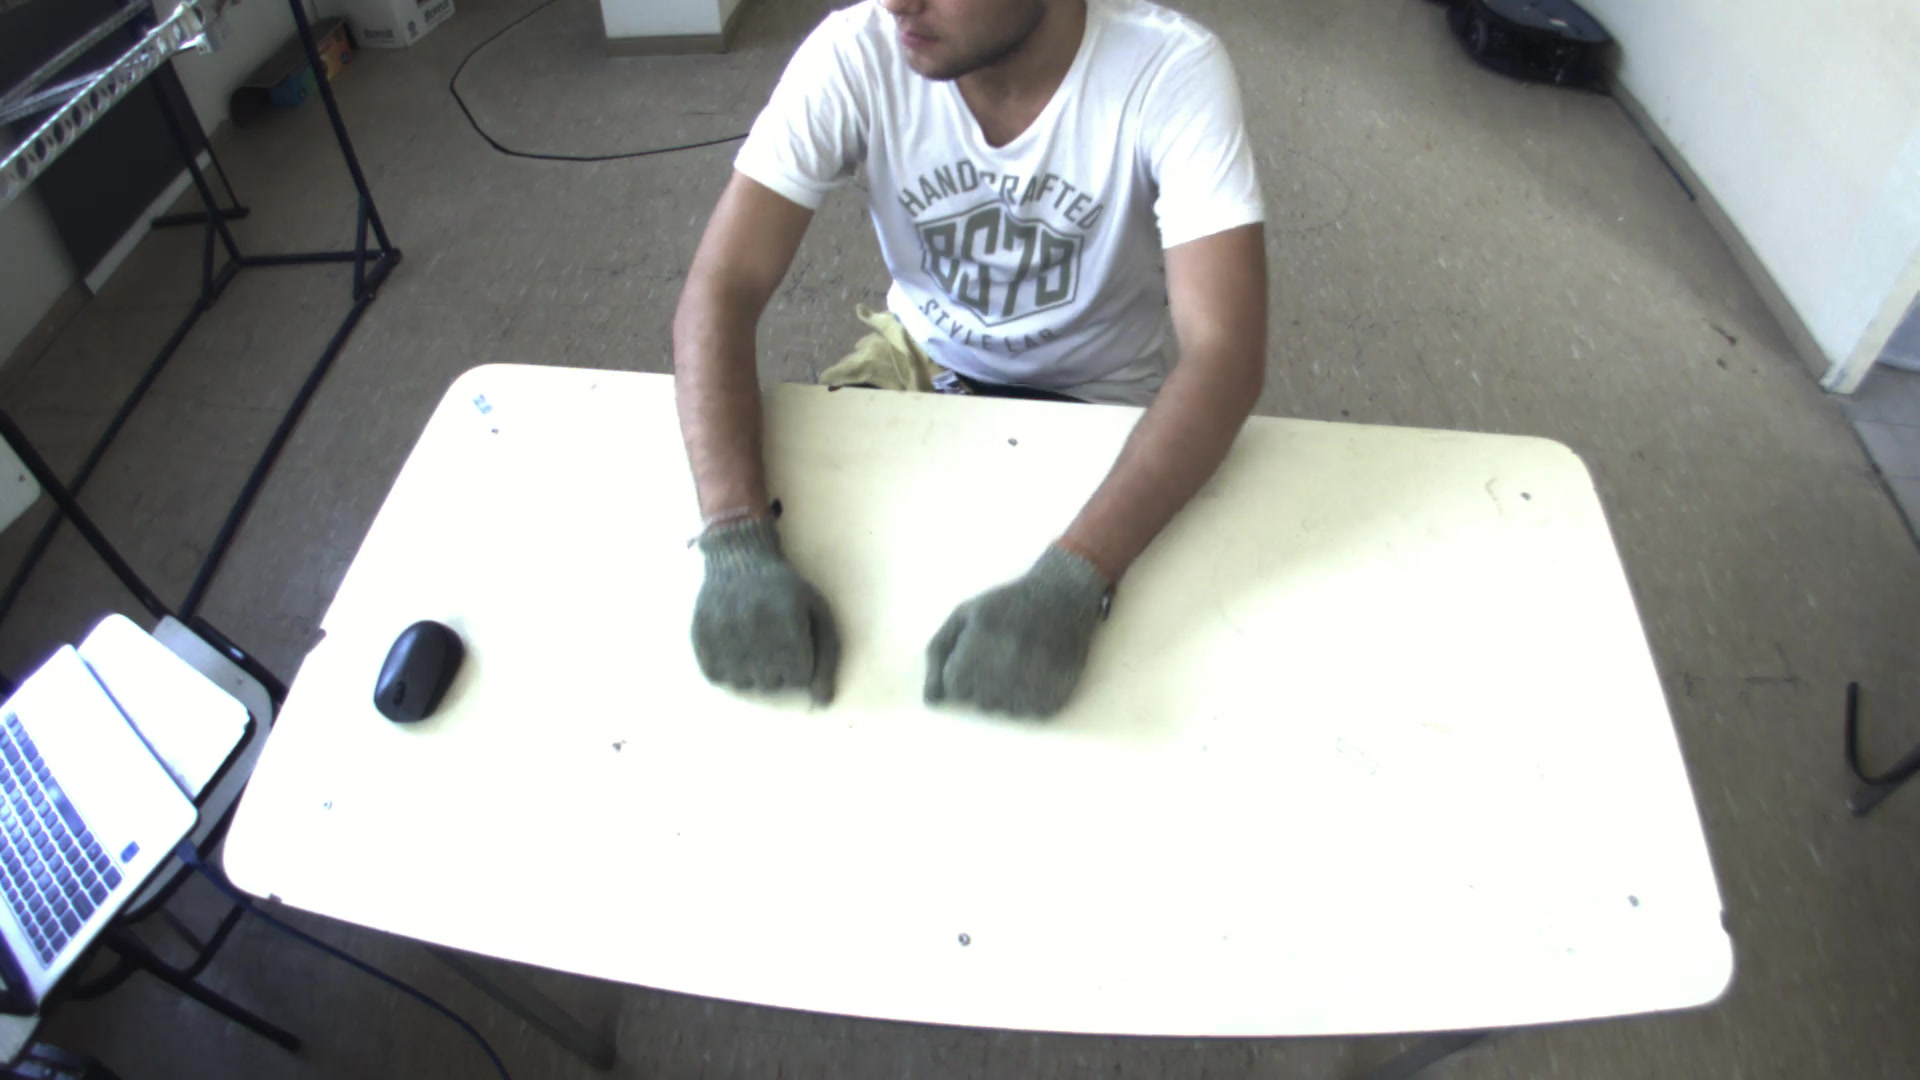hand: (919, 542, 1118, 727), (671, 504, 828, 695)
